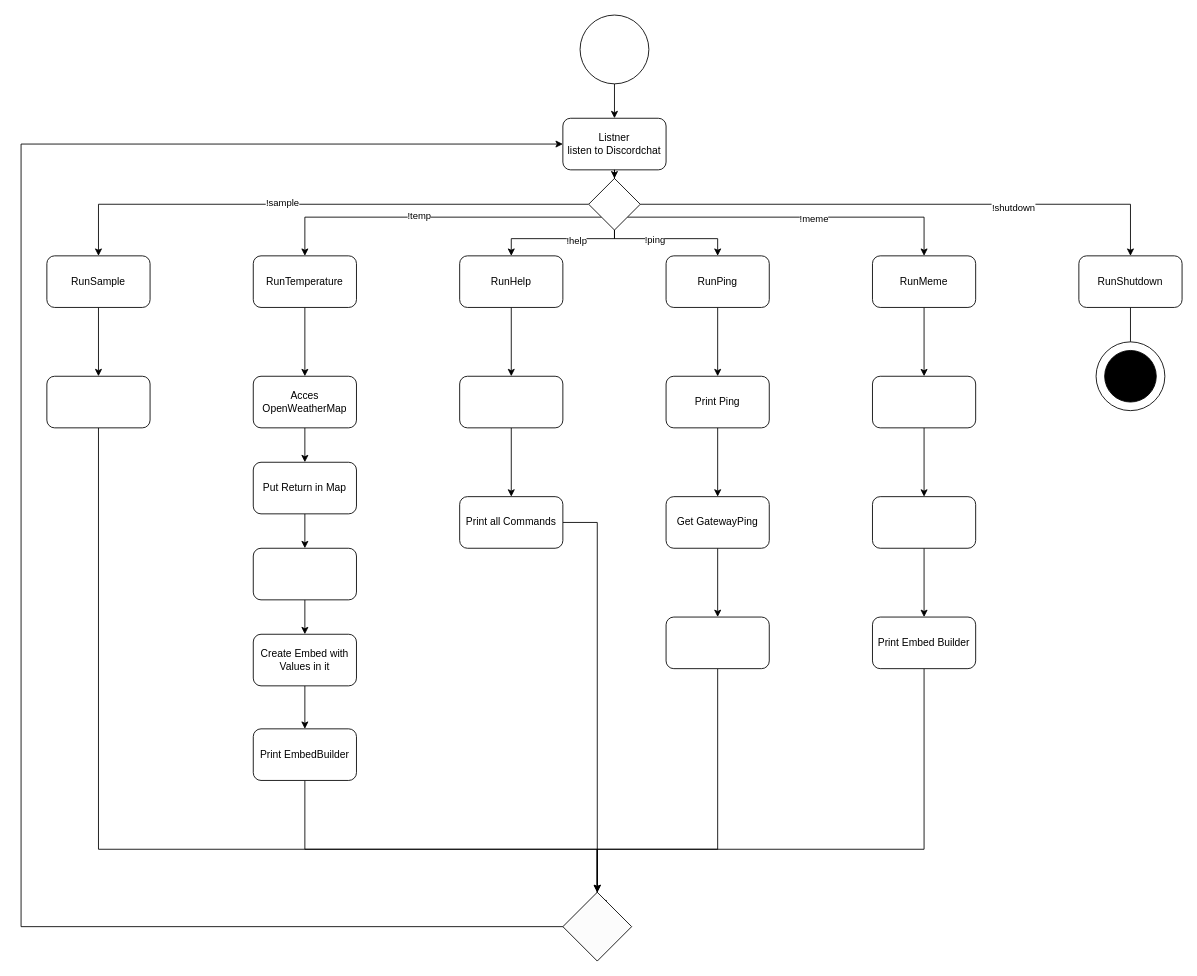
Some shapes in this 1197 by 976 pixel diagram are drawn without their labels. Each missing label, with the centre of its shape:
Acces MemeAPI Get JSON Format the Return: [924,401]
Activity Done: [597,926]
Bot write "Sample" in chat: [98,401]
Edit Message to Pong + GA Ping: [717,642]
Get all Commands from Manager: [511,401]
Get Values out of Map: [304,573]
Put title Image Desc into EmbedBuilder: [924,522]
Start Bot: [614,49]
